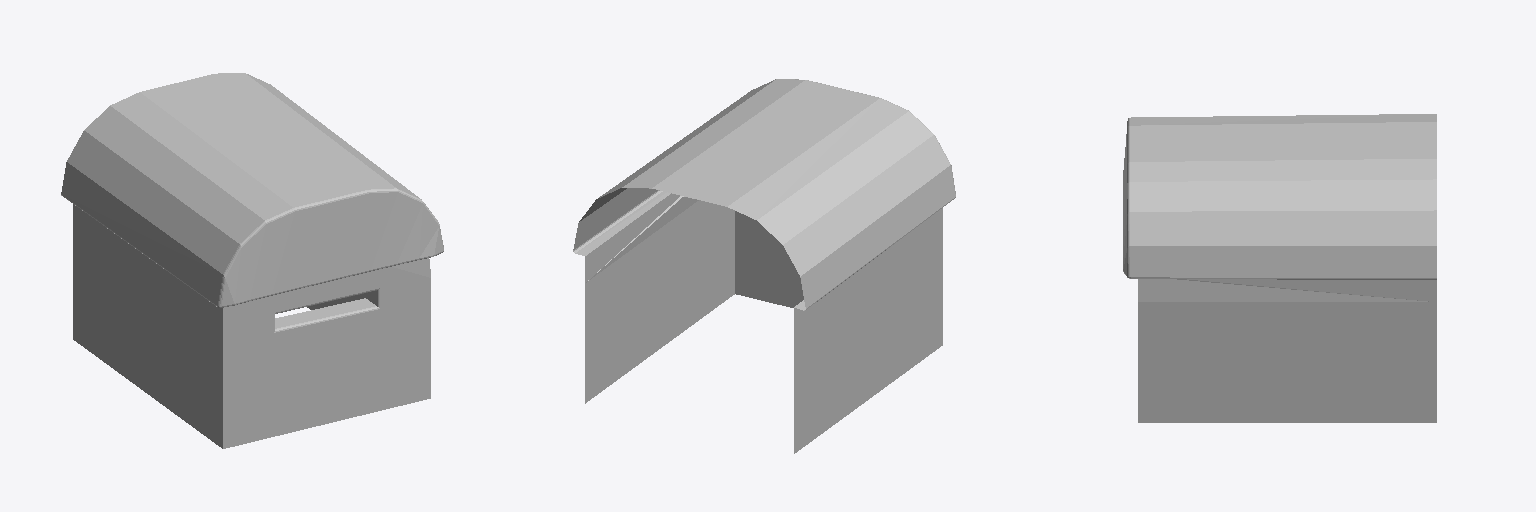
Rendered from bunquer.obj.
3 views of the same model, side by side, from view 1: azimuth 30°, elevation 25°; view 2: azimuth 150°, elevation 25°; view 3: azimuth 270°, elevation 25° (orthographic).
Visible parts, largest first — view 1: bunquer.002; view 2: bunquer.002; view 3: bunquer.002.
Part boxes in pixels (left/top/right/bottom): bunquer.002: left=61, top=73, right=443, bottom=448; bunquer.002: left=573, top=79, right=955, bottom=453; bunquer.002: left=1123, top=114, right=1436, bottom=422.
Size of the model in its own units: 15.14 by 14.4 by 17.71.